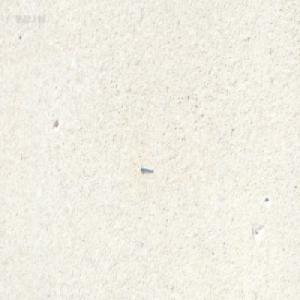Nail: (139, 163, 152, 172)
